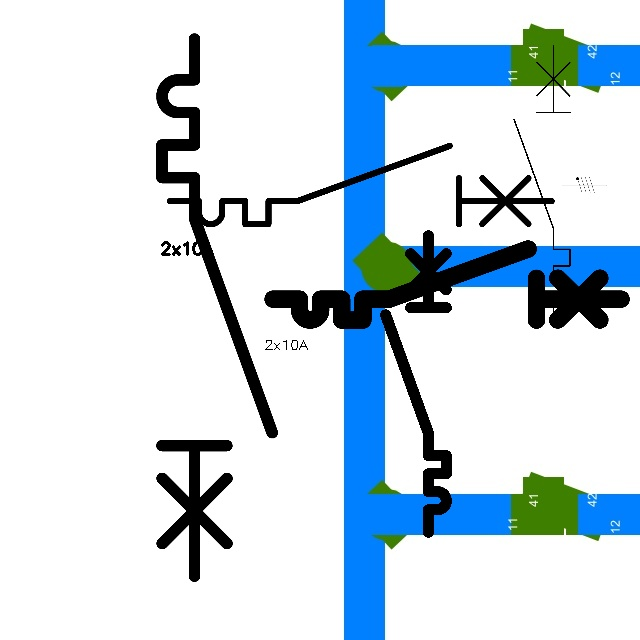interruptor_termomagnetico: (148, 25, 286, 590), (160, 136, 562, 234), (264, 240, 630, 329), (378, 228, 454, 540), (507, 39, 577, 327)
